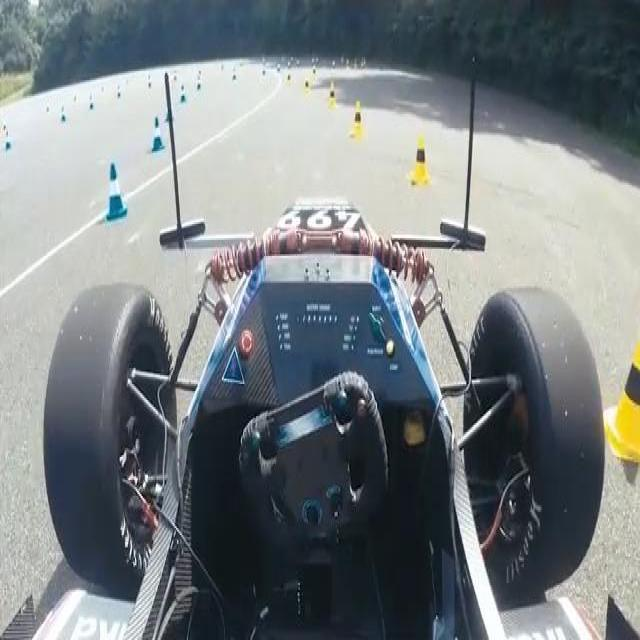blue_cone: (105, 163, 129, 224), (151, 115, 165, 154)
yellow_cone: (601, 329, 640, 464), (408, 133, 431, 187), (350, 100, 367, 142)
